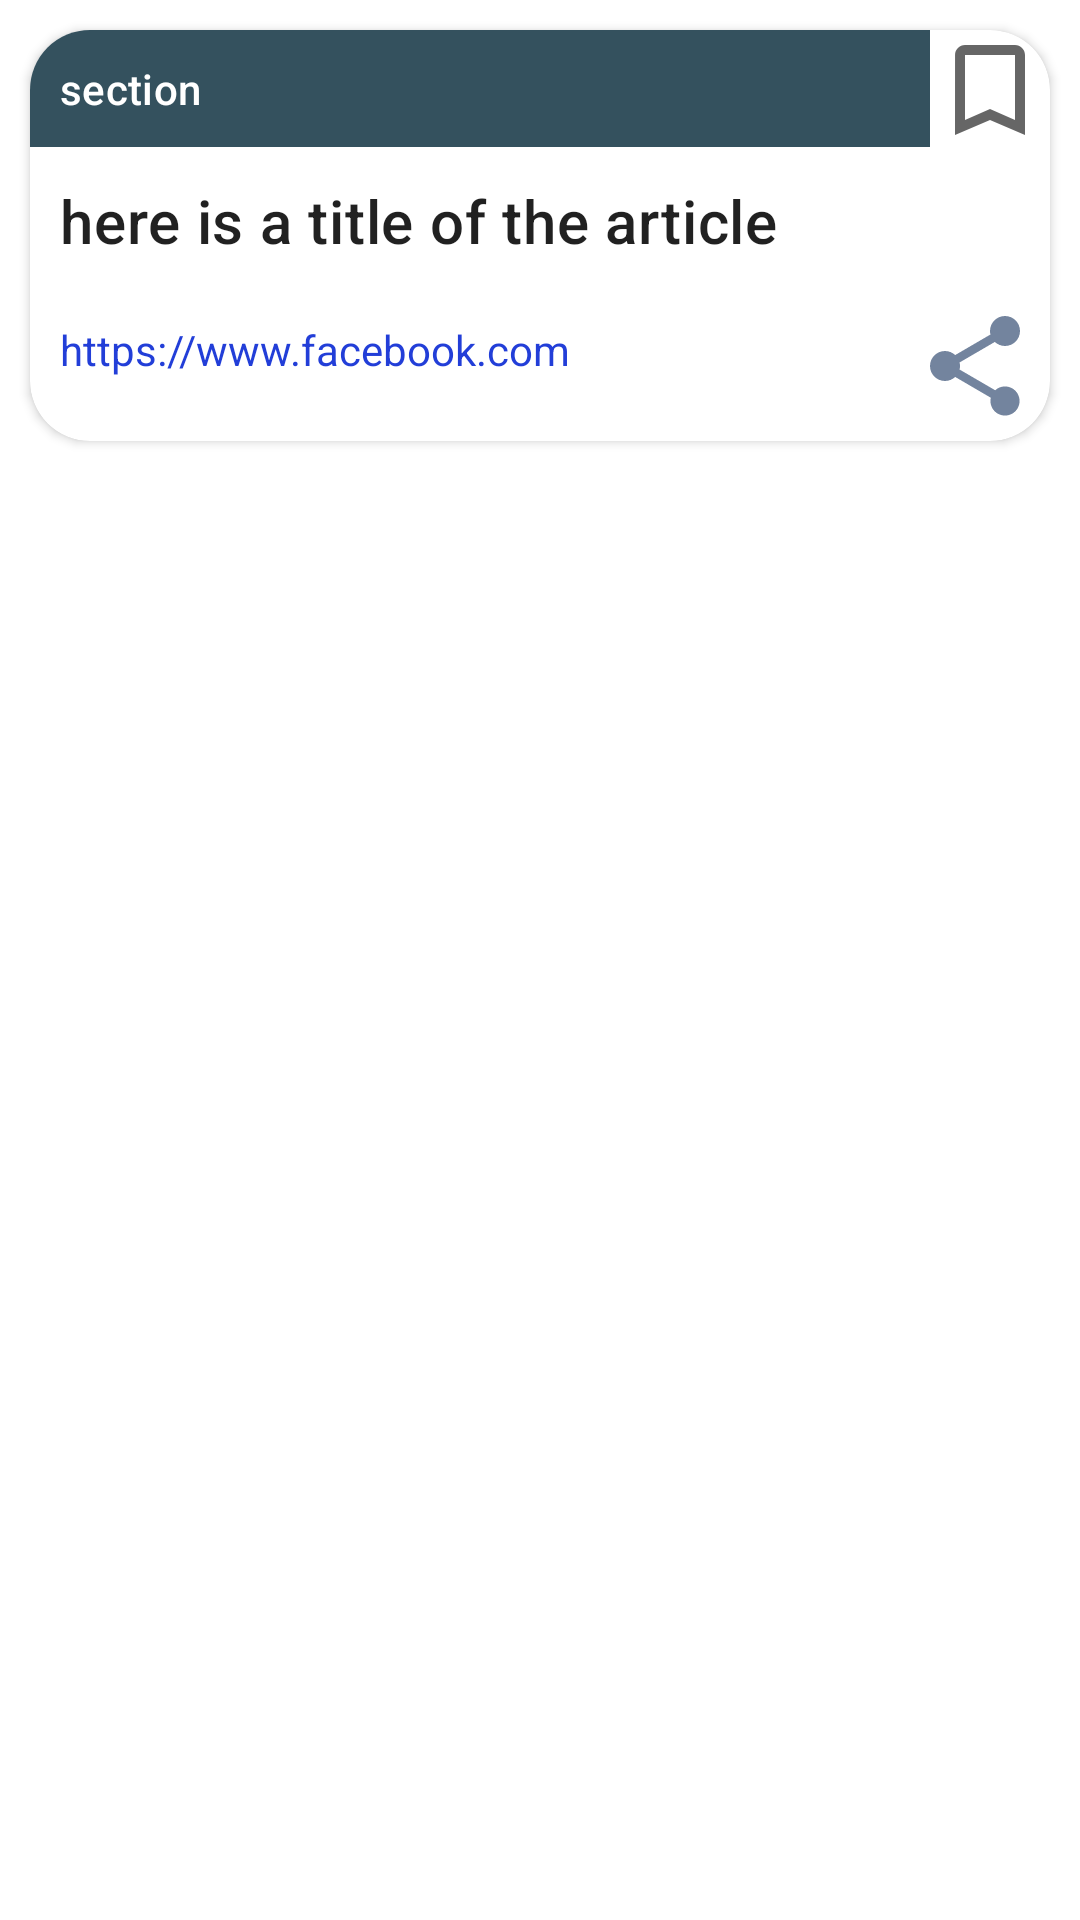

Where to tap for icons on this 1080w x 1920h app screen, as [x,y]:
bookmark: [1001,87]
share: [975,366]
